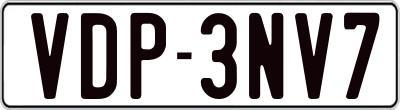3: (201, 13, 238, 103)
7: (344, 11, 382, 98)
D: (81, 12, 118, 104)
N: (249, 11, 285, 98)
P: (130, 10, 171, 100)
V: (30, 11, 72, 100), (295, 12, 335, 104)
